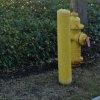a fire hydrant: (70, 12, 92, 67)
